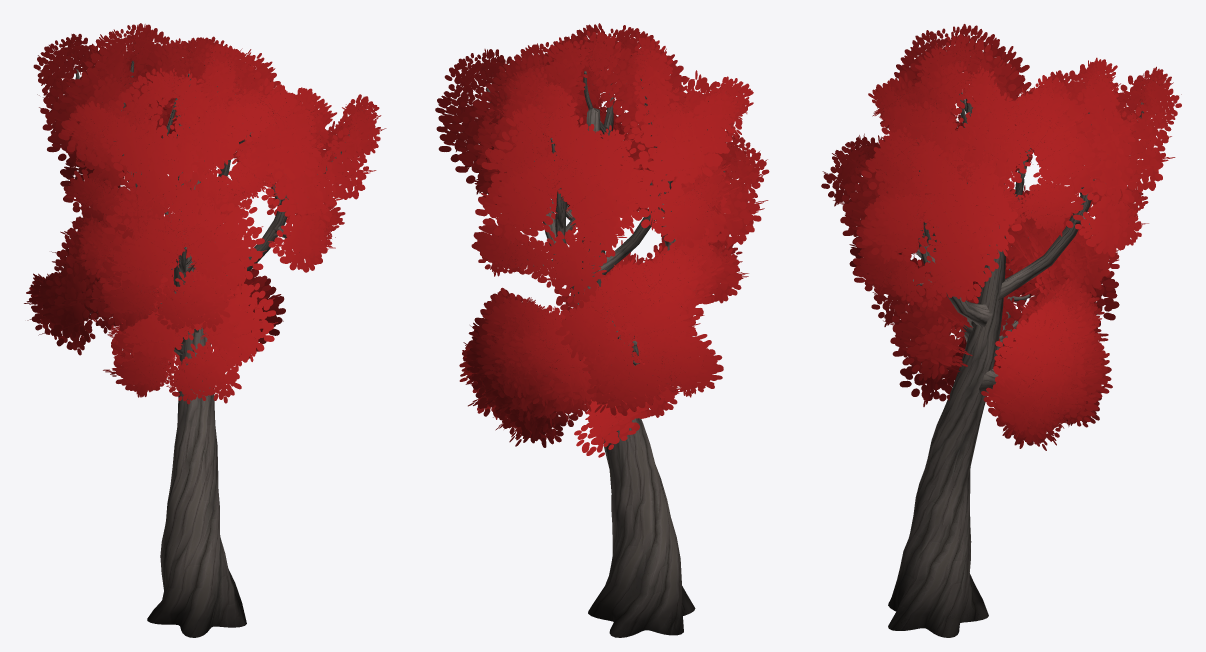
The model's file is TwistedTree_5.gltf.
3 views of the same model, side by side, from view 1: azimuth 30°, elevation 25°; view 2: azimuth 150°, elevation 25°; view 3: azimuth 270°, elevation 25° (orthographic). The views are drawn at different scales.
Parts seen in each view (by area): view 1: TwistedTree_5; view 2: TwistedTree_5; view 3: TwistedTree_5.
Boxes of the visible parts, bbox=[...] form: TwistedTree_5: bbox=[24, 23, 386, 637]; TwistedTree_5: bbox=[435, 23, 769, 637]; TwistedTree_5: bbox=[821, 24, 1181, 637].
Size of the model in its own units: 9.5 by 15.66 by 9.39.
2 materials, 2 textured.
